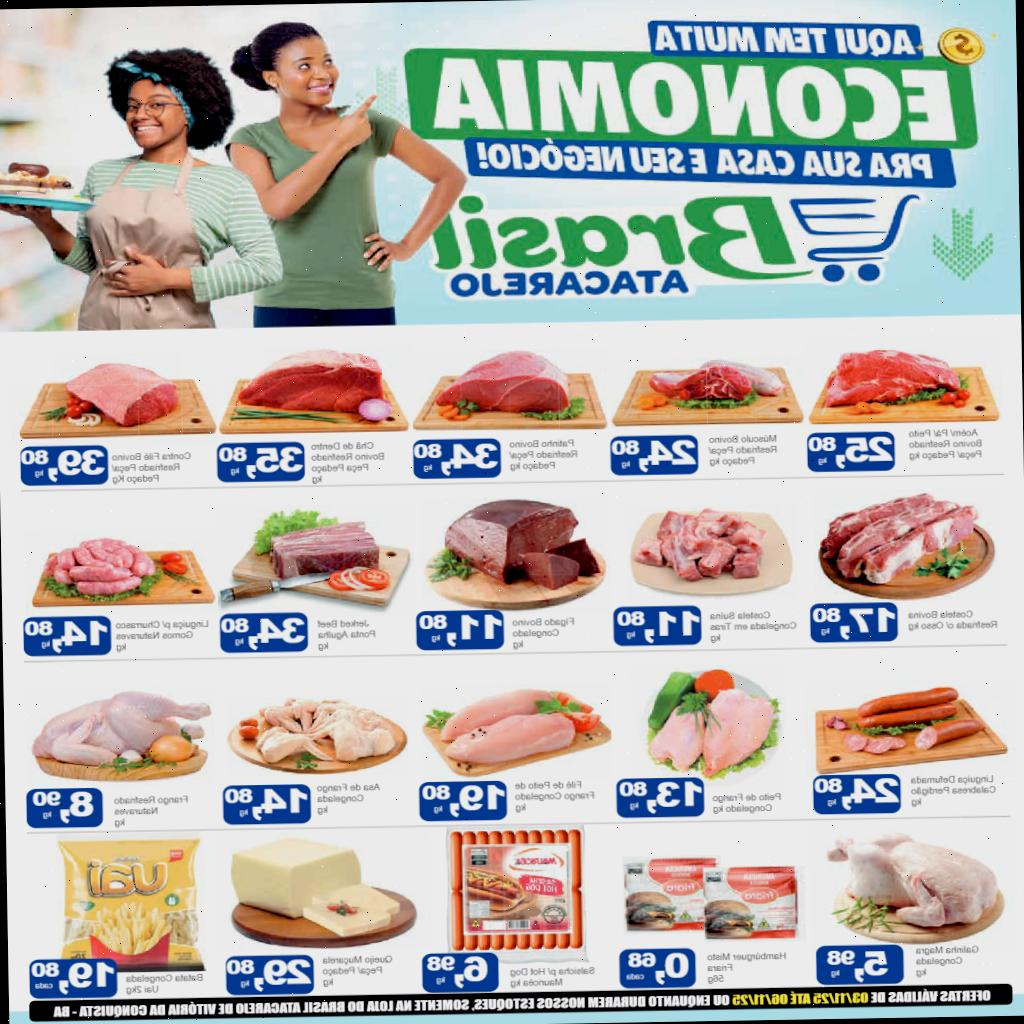price: (812, 774, 899, 812), (226, 957, 314, 994), (616, 778, 704, 815), (806, 434, 894, 470), (22, 618, 110, 654), (223, 786, 308, 823), (417, 612, 503, 648), (420, 782, 506, 818), (611, 438, 697, 473), (412, 442, 500, 476), (614, 610, 700, 644), (220, 616, 306, 650), (217, 445, 303, 479), (20, 448, 105, 482), (812, 606, 896, 640), (30, 960, 114, 994), (620, 950, 691, 986), (423, 954, 489, 992), (827, 947, 889, 984), (28, 790, 94, 824)
product_text: (308, 438, 390, 486), (113, 616, 211, 656), (908, 771, 998, 808), (707, 608, 799, 644), (704, 948, 790, 986), (512, 778, 598, 814), (906, 426, 986, 464), (320, 951, 396, 991), (110, 450, 191, 487), (704, 432, 780, 470), (112, 792, 192, 828), (314, 779, 385, 818), (906, 606, 1000, 635), (506, 437, 580, 473), (911, 943, 982, 980), (510, 614, 579, 650), (508, 964, 597, 990), (316, 616, 380, 652), (709, 790, 783, 816), (123, 972, 203, 995)
